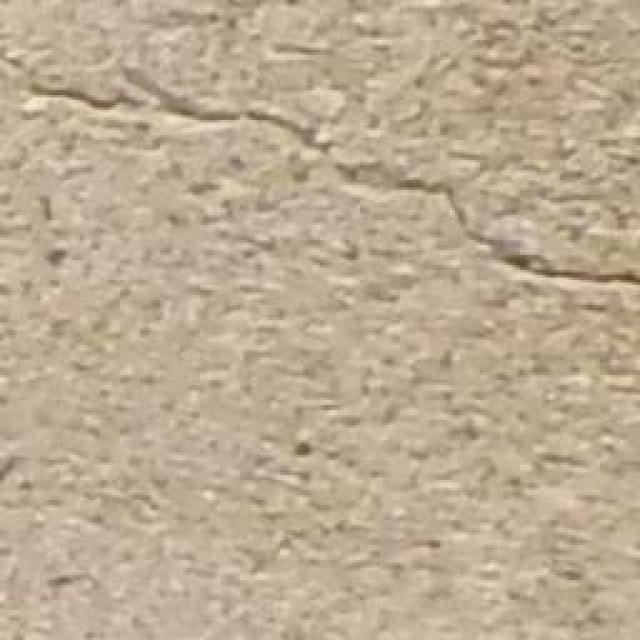concrete-crack: (24, 56, 640, 295)
